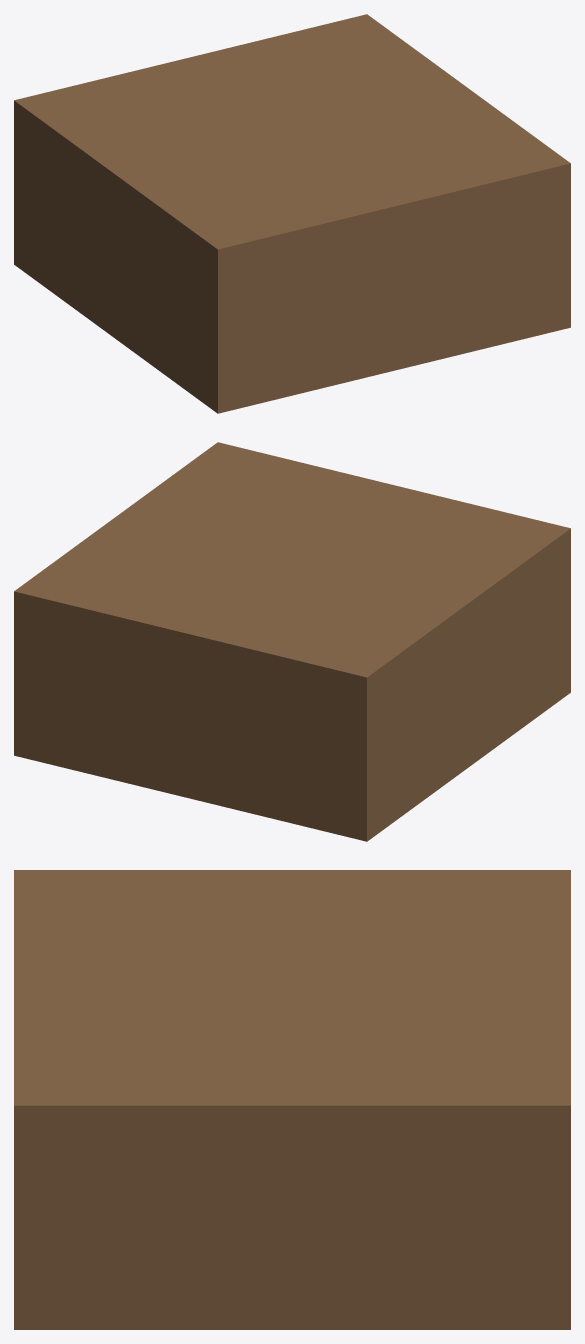
Rendered from review-tile.glb.
3 renders of one model, top to bottom at view 1: azimuth 30°, elevation 25°; view 2: azimuth 150°, elevation 25°; view 3: azimuth 270°, elevation 25°, orthographic. The views are drawn at different scales.
Size of the model in its own units: 0.9 by 0.4 by 0.9.
